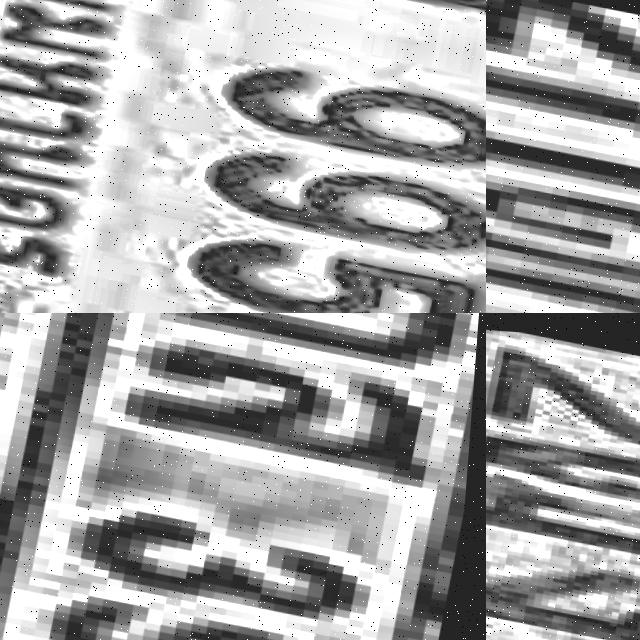license-plate: (0, 313, 486, 640), (0, 0, 486, 313), (486, 313, 640, 640), (486, 0, 640, 313)
